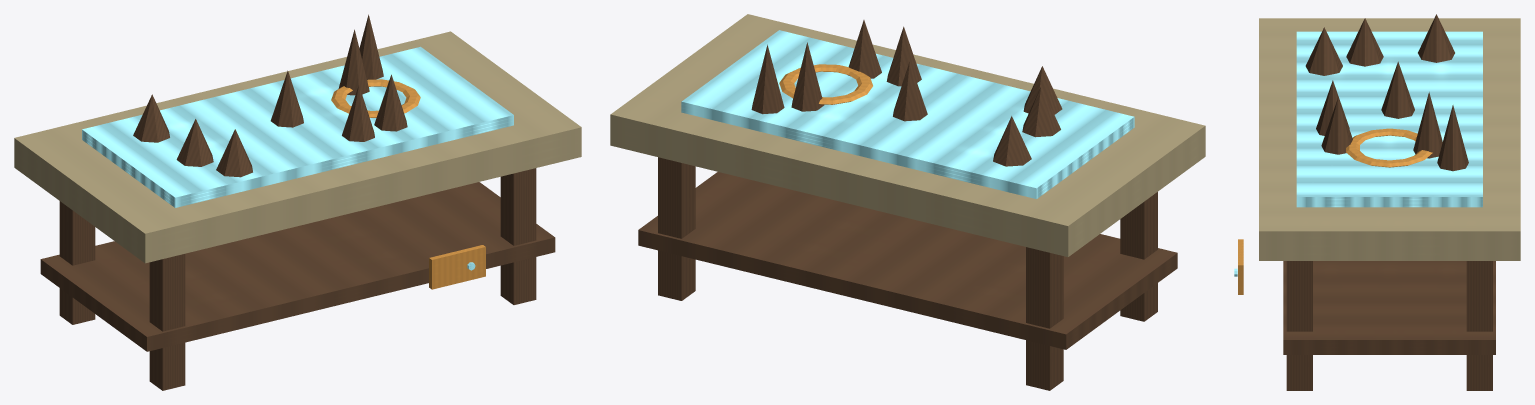
Rendered from atlas100-s013-a02.lod1.glb.
3 renders of one model, left to right at view 1: azimuth 30°, elevation 25°; view 2: azimuth 150°, elevation 25°; view 3: azimuth 270°, elevation 25°, orthographic. The views are drawn at different scales.
Visible parts, largest first — view 1: atlas100-s013-a02:part-004, atlas100-s013-a02:part-005, atlas100-s013-a02:part-006, atlas100-s013-a02:part-001, atlas100-s013-a02:part-003, atlas100-s013-a02:part-000, atlas100-s013-a02:part-016, atlas100-s013-a02:part-008, atlas100-s013-a02:part-014, atlas100-s013-a02:part-011, atlas100-s013-a02:part-015, atlas100-s013-a02:part-012 (+4 smaller); view 2: atlas100-s013-a02:part-004, atlas100-s013-a02:part-005, atlas100-s013-a02:part-006, atlas100-s013-a02:part-000, atlas100-s013-a02:part-002, atlas100-s013-a02:part-001, atlas100-s013-a02:part-015, atlas100-s013-a02:part-009, atlas100-s013-a02:part-012, atlas100-s013-a02:part-008, atlas100-s013-a02:part-010, atlas100-s013-a02:part-013 (+3 smaller); view 3: atlas100-s013-a02:part-004, atlas100-s013-a02:part-006, atlas100-s013-a02:part-005, atlas100-s013-a02:part-002, atlas100-s013-a02:part-003, atlas100-s013-a02:part-015, atlas100-s013-a02:part-009, atlas100-s013-a02:part-008, atlas100-s013-a02:part-010, atlas100-s013-a02:part-012, atlas100-s013-a02:part-007, atlas100-s013-a02:part-013 (+3 smaller).
Boxes of the visible parts, bbox=[...] form: atlas100-s013-a02:part-004: bbox=[14, 31, 581, 263]; atlas100-s013-a02:part-005: bbox=[40, 182, 555, 351]; atlas100-s013-a02:part-006: bbox=[82, 46, 513, 207]; atlas100-s013-a02:part-001: bbox=[149, 254, 185, 390]; atlas100-s013-a02:part-003: bbox=[500, 168, 536, 304]; atlas100-s013-a02:part-000: bbox=[59, 201, 95, 324]; atlas100-s013-a02:part-016: bbox=[429, 245, 485, 289]; atlas100-s013-a02:part-008: bbox=[270, 70, 303, 127]; atlas100-s013-a02:part-014: bbox=[374, 74, 407, 131]; atlas100-s013-a02:part-011: bbox=[342, 85, 374, 141]; atlas100-s013-a02:part-015: bbox=[331, 79, 420, 117]; atlas100-s013-a02:part-012: bbox=[338, 29, 369, 95]; atlas100-s013-a02:part-004: bbox=[610, 14, 1205, 256]; atlas100-s013-a02:part-005: bbox=[638, 172, 1177, 349]; atlas100-s013-a02:part-006: bbox=[681, 30, 1134, 198]; atlas100-s013-a02:part-000: bbox=[1026, 247, 1063, 390]; atlas100-s013-a02:part-002: bbox=[658, 157, 695, 300]; atlas100-s013-a02:part-001: bbox=[1120, 192, 1157, 321]; atlas100-s013-a02:part-015: bbox=[779, 64, 872, 104]; atlas100-s013-a02:part-009: bbox=[751, 44, 784, 114]; atlas100-s013-a02:part-012: bbox=[791, 42, 824, 111]; atlas100-s013-a02:part-008: bbox=[893, 61, 927, 121]; atlas100-s013-a02:part-010: bbox=[1022, 86, 1060, 137]; atlas100-s013-a02:part-013: bbox=[993, 116, 1031, 166]; atlas100-s013-a02:part-004: bbox=[1259, 18, 1520, 260]; atlas100-s013-a02:part-006: bbox=[1296, 31, 1482, 207]; atlas100-s013-a02:part-005: bbox=[1283, 261, 1495, 354]; atlas100-s013-a02:part-002: bbox=[1466, 261, 1492, 390]; atlas100-s013-a02:part-003: bbox=[1286, 261, 1312, 390]; atlas100-s013-a02:part-015: bbox=[1346, 128, 1432, 167]; atlas100-s013-a02:part-009: bbox=[1437, 105, 1468, 171]; atlas100-s013-a02:part-008: bbox=[1381, 61, 1414, 118]; atlas100-s013-a02:part-010: bbox=[1346, 18, 1383, 66]; atlas100-s013-a02:part-012: bbox=[1413, 92, 1442, 158]; atlas100-s013-a02:part-007: bbox=[1305, 27, 1342, 75]; atlas100-s013-a02:part-013: bbox=[1418, 14, 1454, 62].
Bounding box in the file's own units: 3.08 × 1.65 × 1.75.
4 materials, 4 textured.
